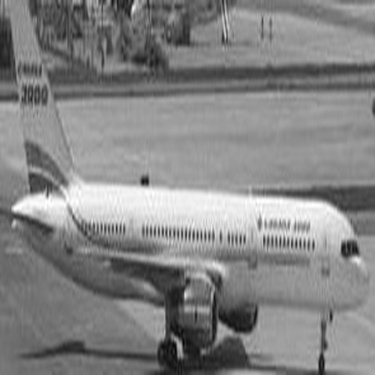airplane: (3, 25, 366, 361)
